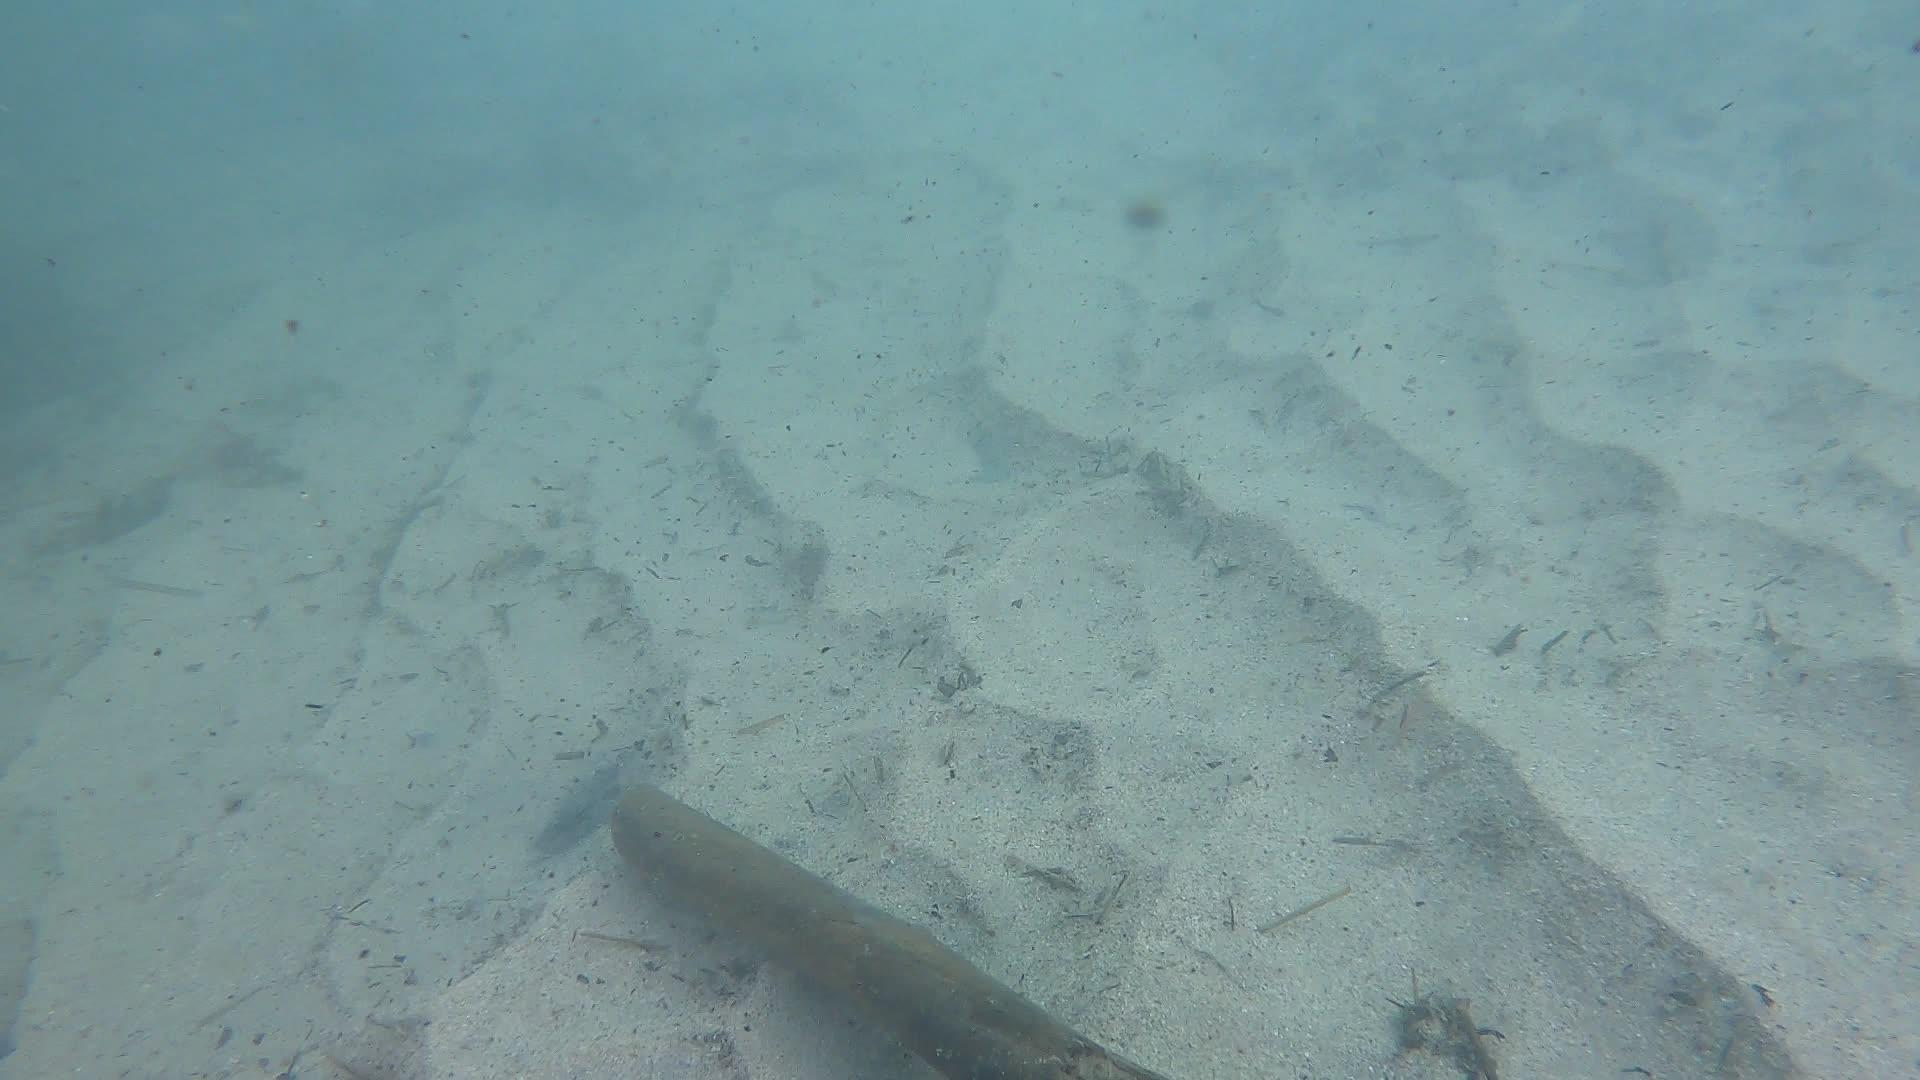wood: (615, 785, 1164, 1080)
